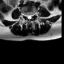CCS_normal: (28, 12, 30, 21)
LFS_normal: (32, 11, 34, 17)
LLS_normal: (30, 12, 32, 20)
RFS_normal: (24, 12, 26, 18)
RLS_normal: (26, 12, 28, 20)
